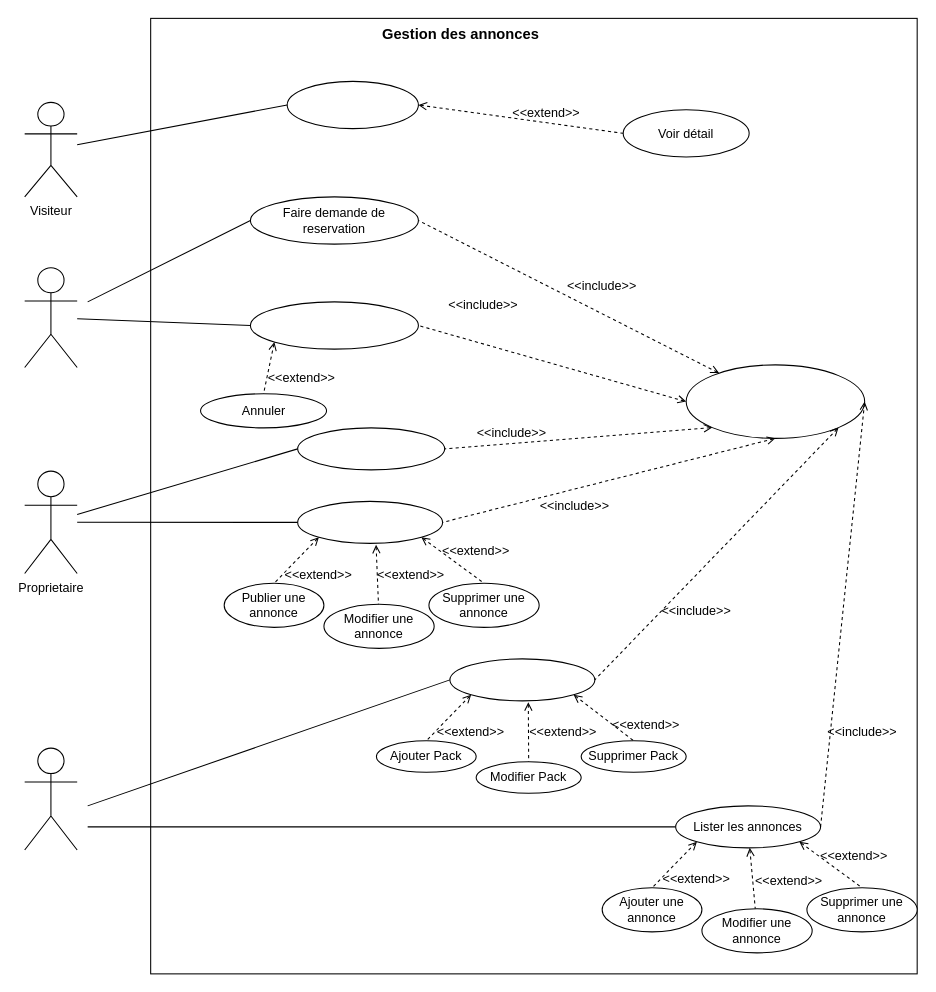
Some shapes in this 936 by 992 pixel diagram are drawn without their labels. The centre of each missing label's shape, as x and y in pixels:
"Admin" goes at (50,798).
"Client" goes at (50,317).
"Lister bien immobilier" goes at (352,104).
"Lister Pack" goes at (522,679).
"Lister ses annonces" goes at (370,521).
"Lister ses demandes" goes at (333,325).
"S'authentifier" goes at (775,401).
"Souscrire pack" goes at (371,448).
